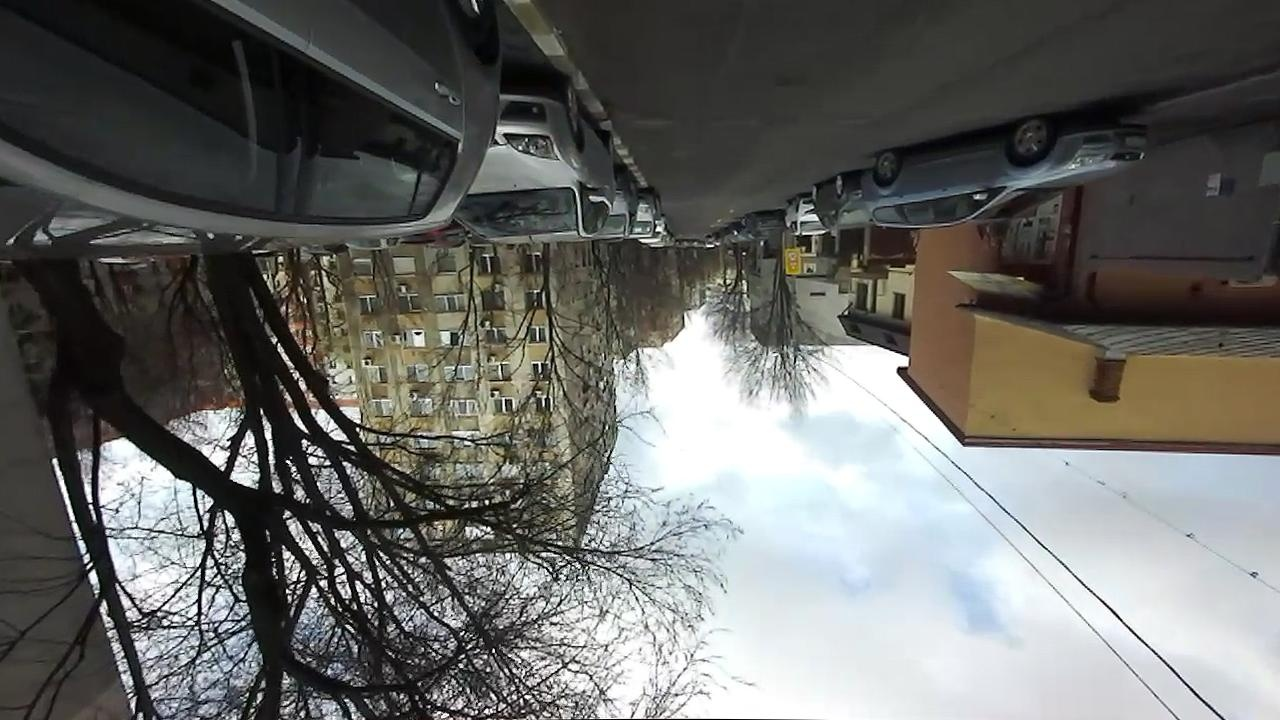pothole: (775, 72, 812, 94)
